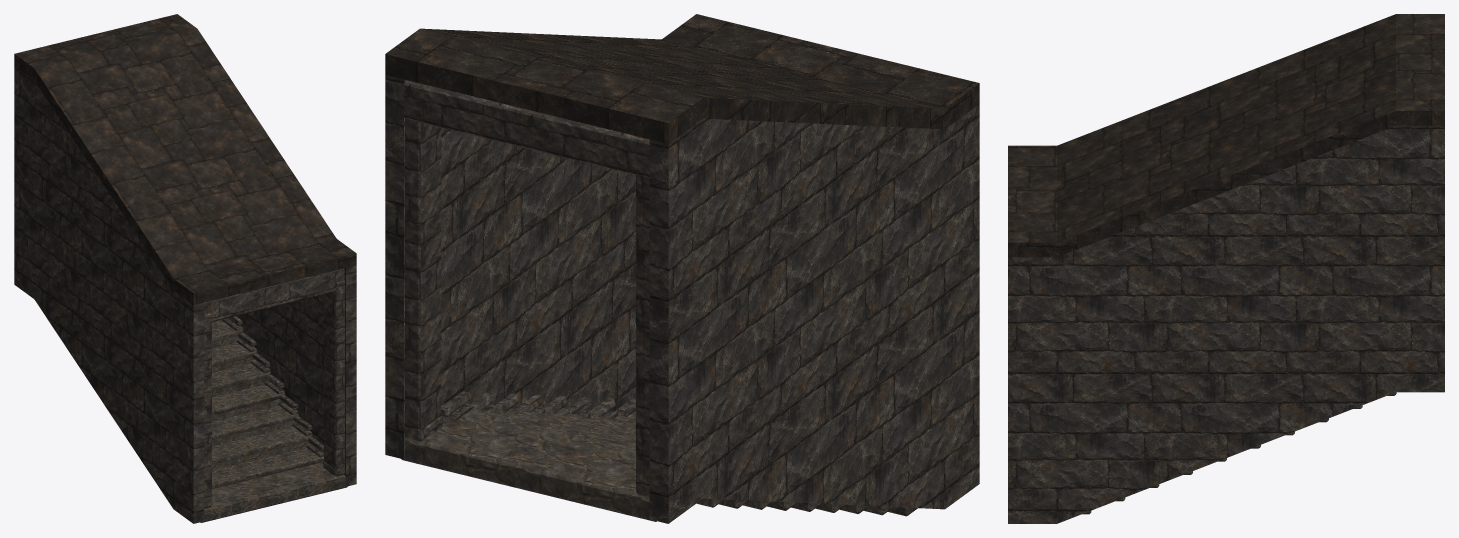
File: crypt_stair_flight.glb
The picture shows the model from 3 angles, left to right: view 1: azimuth 30°, elevation 25°; view 2: azimuth 150°, elevation 25°; view 3: azimuth 270°, elevation 25°; orthographic projection. The views are drawn at different scales.
Parts seen in each view (by area): view 1: Crypt Stair Flight Mesh; view 2: Crypt Stair Flight Mesh; view 3: Crypt Stair Flight Mesh.
Part boxes in pixels (x1,y1,x2,y2): Crypt Stair Flight Mesh: (14, 14, 356, 523); Crypt Stair Flight Mesh: (385, 14, 979, 523); Crypt Stair Flight Mesh: (1008, 14, 1444, 523).
Size of the model in its own units: 3.41 by 6.81 by 6.49.
3 materials, 3 textured.
